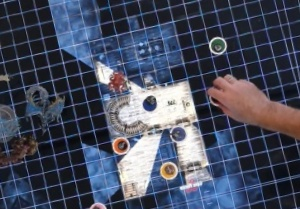blue: (139, 92, 161, 112)
green: (206, 32, 233, 58)
orange: (110, 133, 133, 156)
pink: (83, 198, 110, 209)
red: (206, 84, 228, 106)
violet: (167, 122, 189, 145)
yellow: (154, 155, 183, 184)
